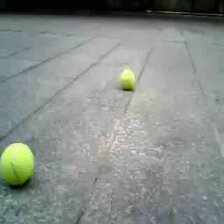tennis: (1, 142, 34, 187), (120, 69, 136, 90)
